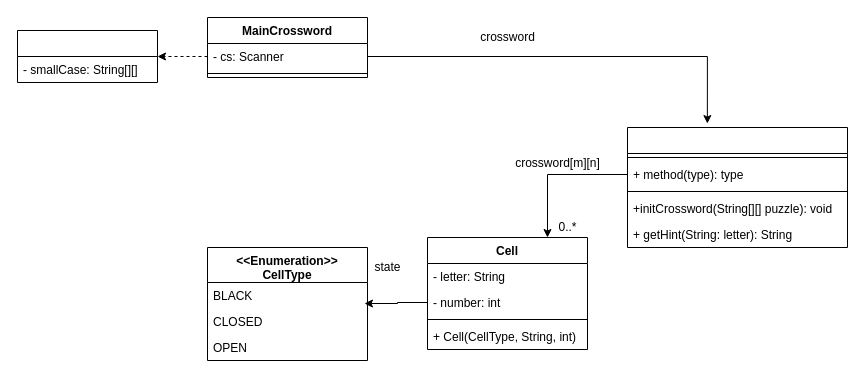
The diagram is 865 pixels wide and 381 high, and some of its shapes have lost their labels. Here are the shapes that lost their labels. From the top down, the box of each, then its label:
(16, 30, 158, 82): TestCase
(626, 126, 848, 248): CrossWordController
